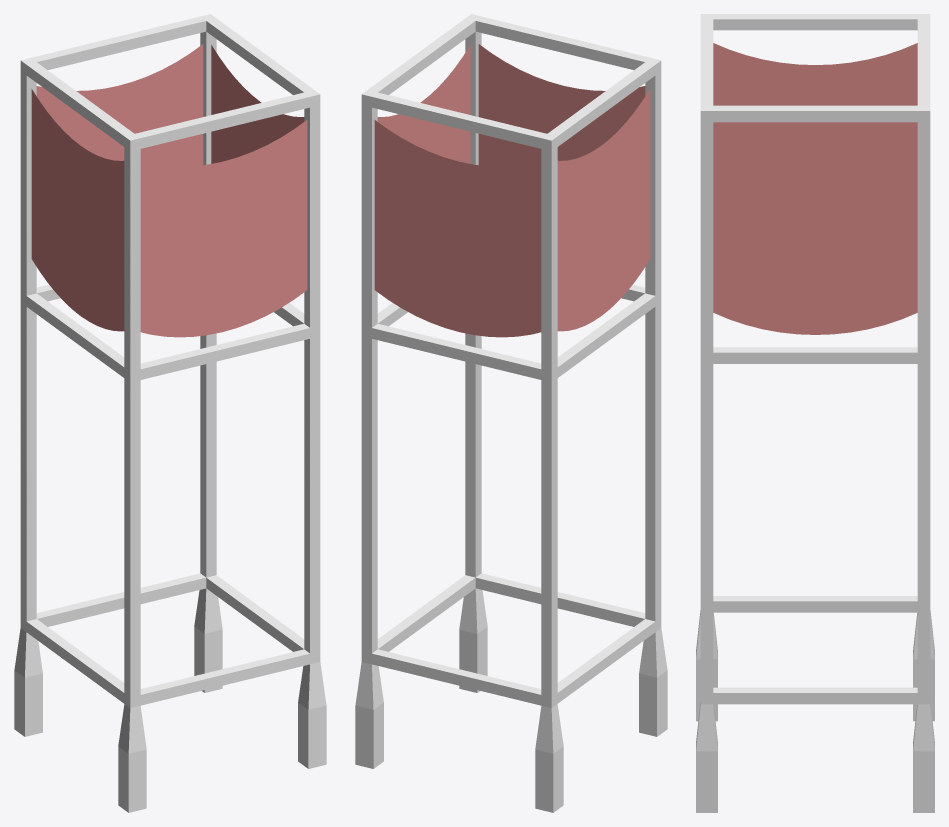
File: bannerTowerRed.glb
3 renders of one model, left to right at view 1: azimuth 30°, elevation 25°; view 2: azimuth 150°, elevation 25°; view 3: azimuth 270°, elevation 25°, orthographic. The views are drawn at different scales.
Visible parts, largest first — view 1: bannerTowerRed(Clone); view 2: bannerTowerRed(Clone); view 3: bannerTowerRed(Clone).
Boxes of the visible parts, <box> form: bannerTowerRed(Clone): <box>14,14,326,812</box>; bannerTowerRed(Clone): <box>355,14,667,812</box>; bannerTowerRed(Clone): <box>696,14,934,812</box>.
Bounding box in the file's own units: 0.3852 × 1.25 × 0.3852.
1 material, 1 textured.
